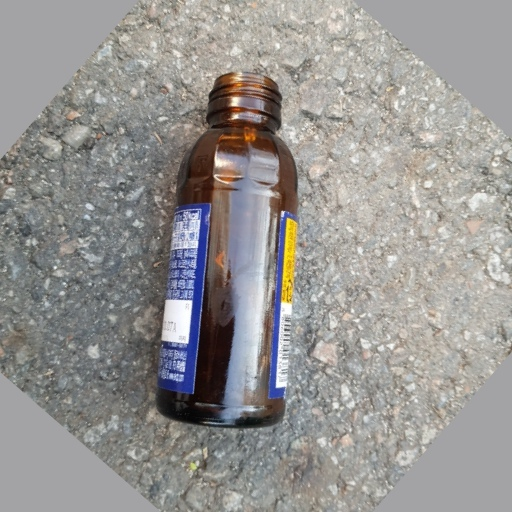Glass_3: (156, 72, 302, 428)
